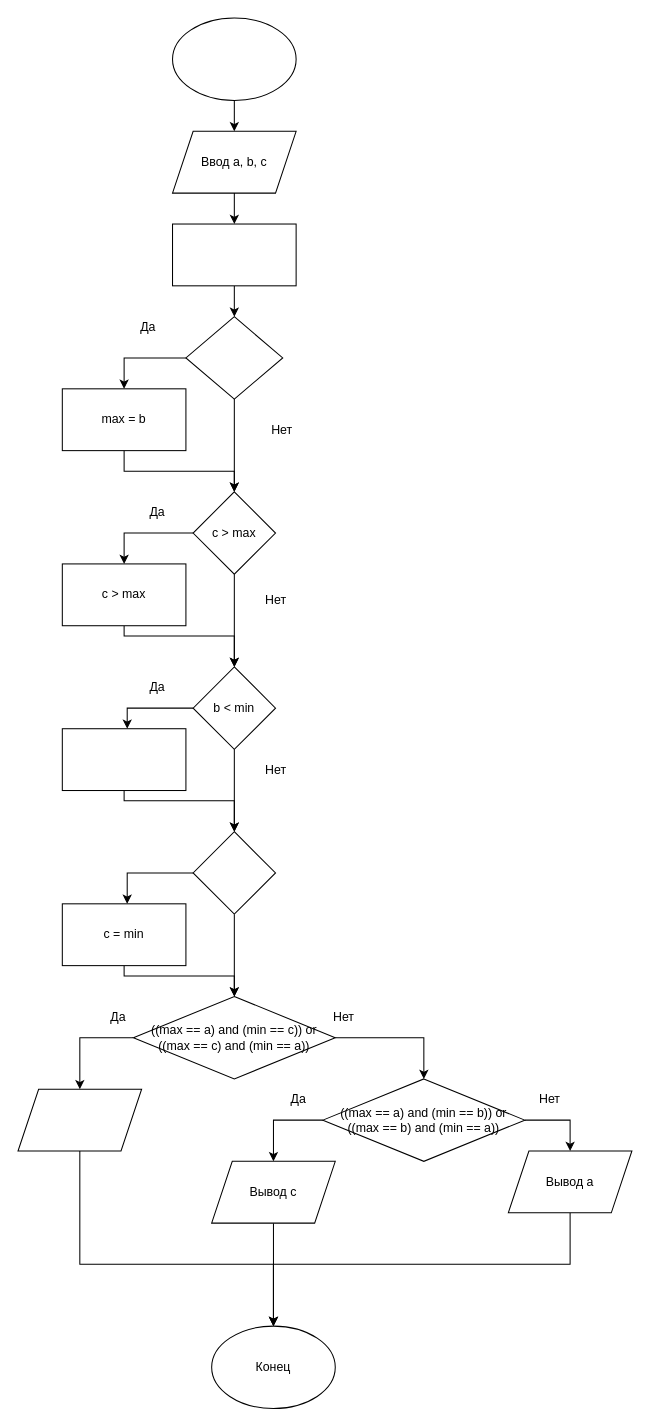
This 650x1427 diagram has some shape labels left out. Here are the shapes that lost their labels. From the top down, the box of each, then its label:
(171, 17, 296, 100): Начало
(171, 223, 296, 286): max = a, min = a
(185, 316, 283, 399): Если b > max
(61, 728, 186, 791): min = b
(192, 831, 276, 914): c < min
(17, 1088, 142, 1151): Вывод b
